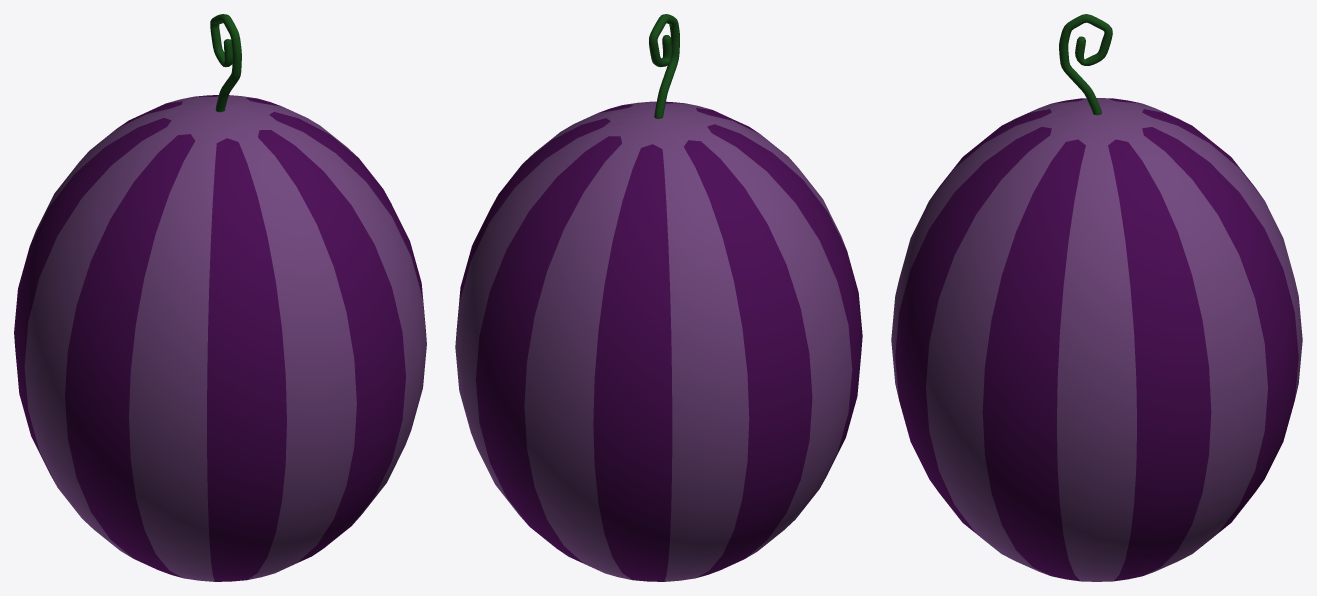
The model's file is watermelon.fbx.
3 renders of one model, left to right at view 1: azimuth 30°, elevation 25°; view 2: azimuth 150°, elevation 25°; view 3: azimuth 270°, elevation 25°, orthographic.
Visible parts, largest first — view 1: watermelon; view 2: watermelon; view 3: watermelon.
Boxes of the visible parts, x1=… form: watermelon: x1=14, y1=14, x2=426, y2=581; watermelon: x1=455, y1=14, x2=862, y2=581; watermelon: x1=891, y1=14, x2=1302, y2=581.
Bounding box in the file's own units: 280 × 415 × 280.
